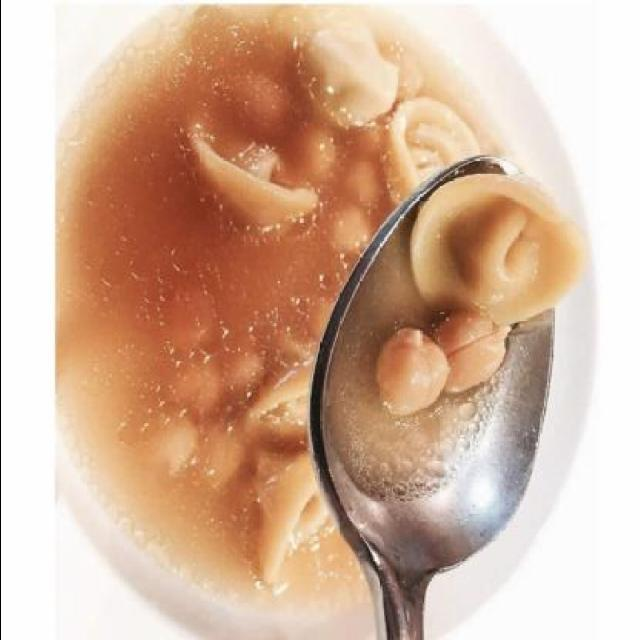Tortellini in broth: (303, 150, 594, 548)
